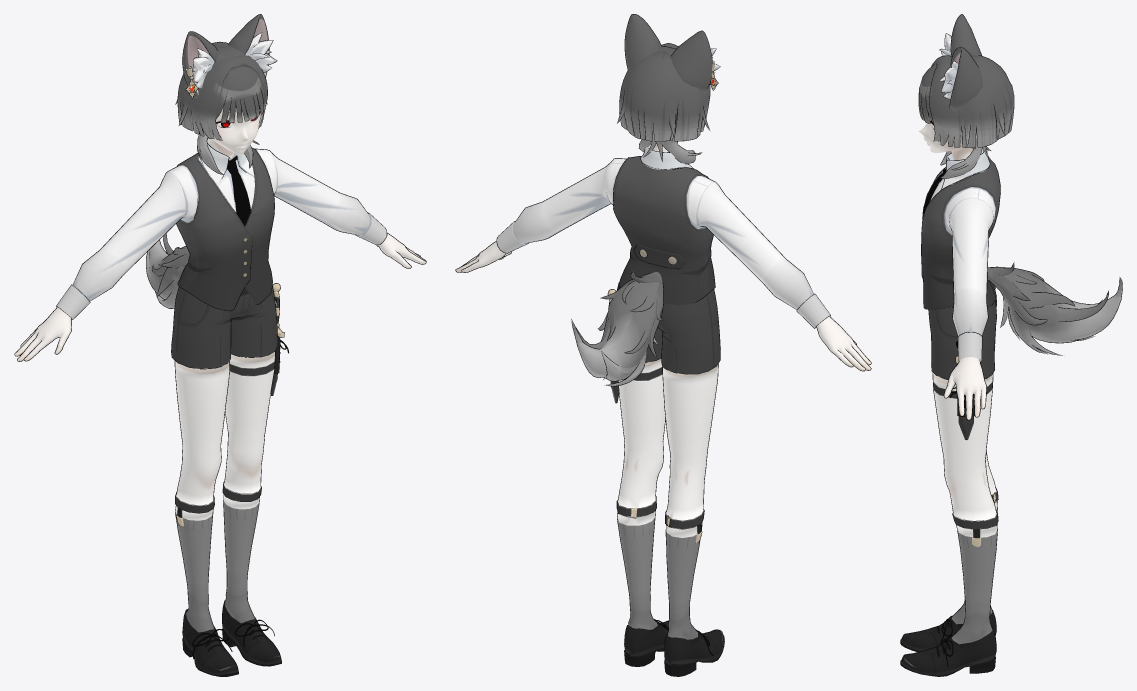
Rendered from Mod off Shigan 4.2 .glb.
The picture shows the model from 3 angles, left to right: view 1: azimuth 30°, elevation 25°; view 2: azimuth 150°, elevation 25°; view 3: azimuth 270°, elevation 25°; orthographic projection.
Parts seen in each view (by area): view 1: Шорты, Рука, Волосы, Лицо; view 2: Шорты, Рука, Волосы; view 3: Шорты, Рука, Волосы, Лицо.
Part boxes in pixels (left/top/right/bottom): Шорты: left=146, top=233, right=288, bottom=676; Рука: left=14, top=138, right=426, bottom=361; Волосы: left=175, top=14, right=277, bottom=174; Лицо: left=208, top=106, right=260, bottom=158; Шорты: left=571, top=271, right=724, bottom=676; Рука: left=455, top=145, right=871, bottom=371; Волосы: left=617, top=14, right=720, bottom=164; Шорты: left=900, top=262, right=1122, bottom=676; Рука: left=921, top=148, right=1000, bottom=420; Волосы: left=918, top=14, right=1014, bottom=178; Лицо: left=919, top=116, right=982, bottom=160.
Size of the model in its own units: 1 by 1.48 by 0.4751.
Materials: 8 (6 with a texture image).
